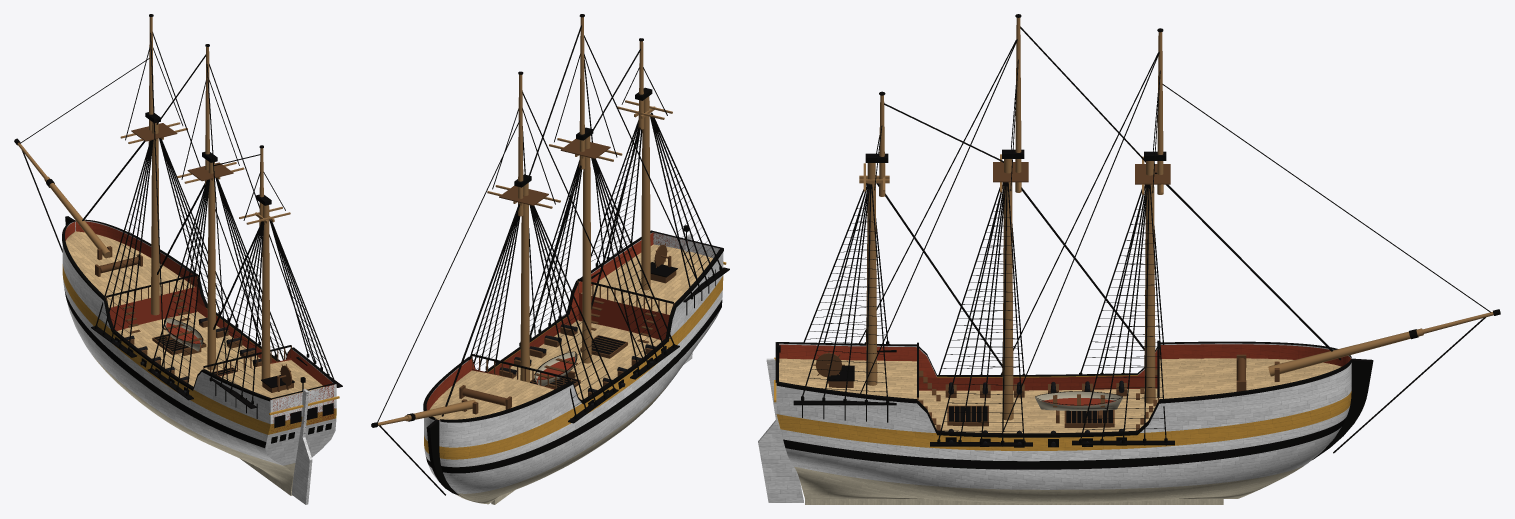
The model's file is barque.glb.
The picture shows the model from 3 angles, left to right: view 1: azimuth 30°, elevation 25°; view 2: azimuth 150°, elevation 25°; view 3: azimuth 270°, elevation 25°; orthographic projection. The views are drawn at different scales.
Parts seen in each view (by area): view 1: hull; view 2: hull; view 3: hull.
Boxes of the visible parts, left/top/right/bottom form: hull: left=14, top=14, right=342, bottom=504; hull: left=371, top=14, right=729, bottom=504; hull: left=758, top=14, right=1500, bottom=504.
Bounding box in the file's own units: 8.5 × 28.49 × 39.23.
9 materials, 5 textured.
